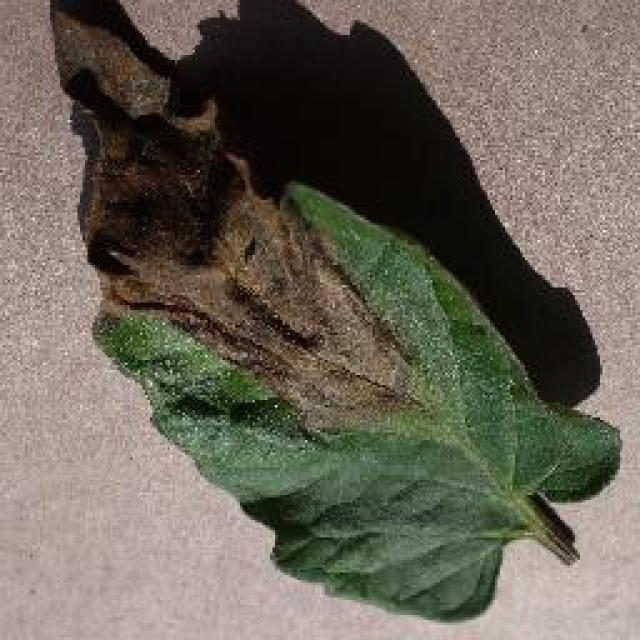Tomato___Late_blight: (48, 5, 626, 625)
